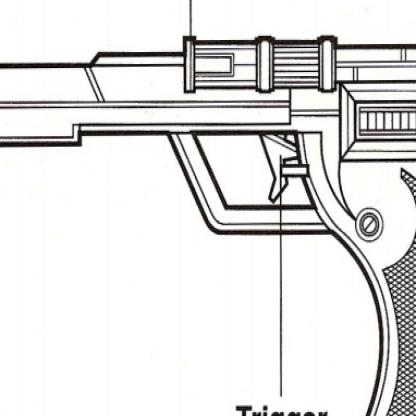gun: (0, 24, 415, 415)
